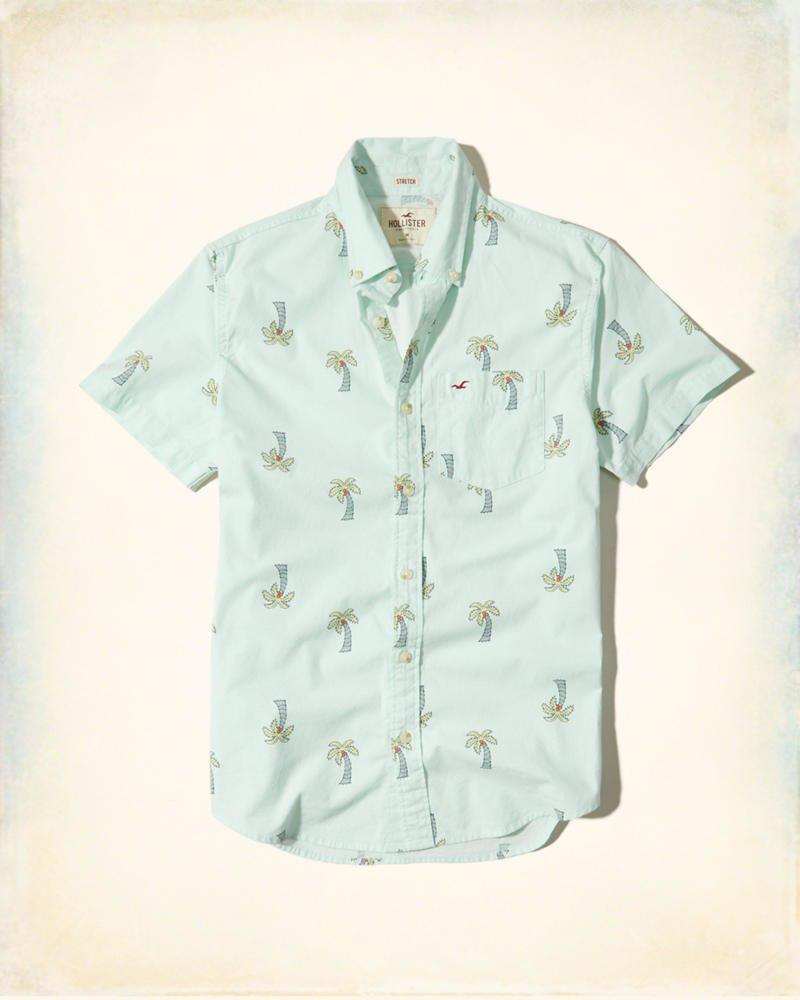teeshirt: (77, 125, 752, 883)
